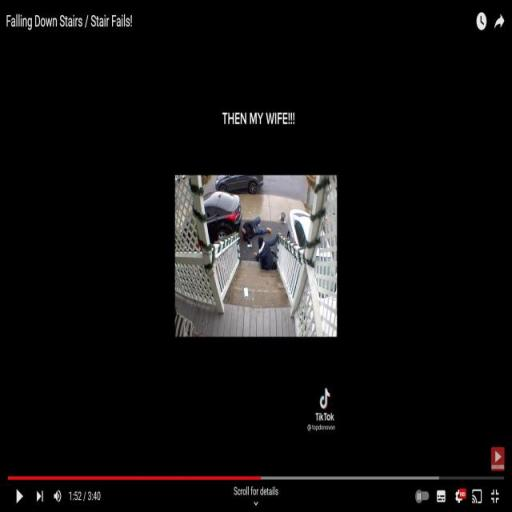Fall: (254, 232, 284, 270), (241, 214, 272, 248)
